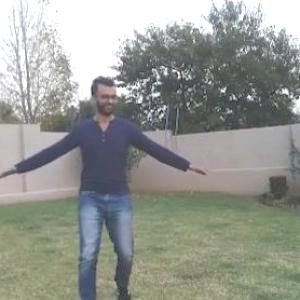land: (1, 40, 232, 299)
